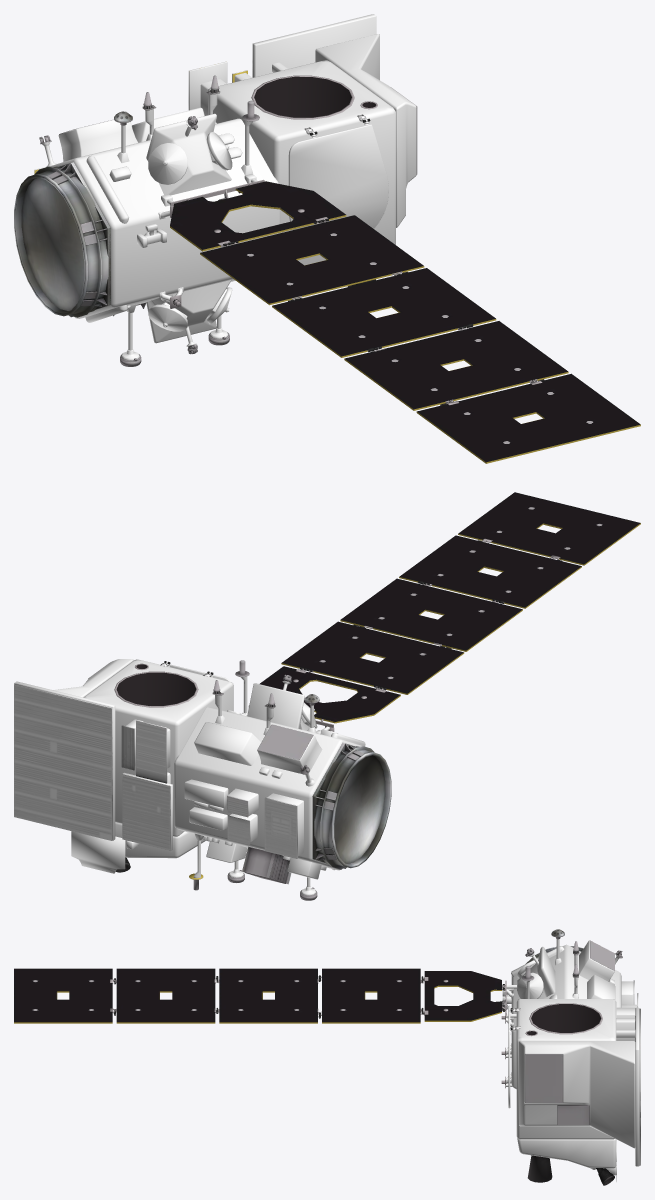
The model's file is icesat-2-b.glb.
The picture shows the model from 3 angles, top to bottom: view 1: azimuth 30°, elevation 25°; view 2: azimuth 150°, elevation 25°; view 3: azimuth 270°, elevation 25°; orthographic projection. The views are drawn at different scales.
Parts seen in each view (by area): view 1: instruments, BUS, Atlas scope; view 2: instruments, BUS, Atlas scope; view 3: instruments, BUS, Atlas scope.
Boxes of the visible parts, left/top/right/bottom form: instruments: left=14, top=14, right=640, bottom=462; BUS: left=36, top=14, right=416, bottom=360; Atlas scope: left=34, top=70, right=640, bottom=463; instruments: left=14, top=492, right=640, bottom=900; BUS: left=14, top=659, right=365, bottom=895; Atlas scope: left=114, top=523, right=640, bottom=879; instruments: left=14, top=929, right=640, bottom=1185; BUS: left=502, top=939, right=639, bottom=1181; Atlas scope: left=14, top=975, right=602, bottom=1088.
Size of the model in its own units: 3.63 by 2.32 by 7.34.
3 materials, 3 textured.
